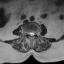CCS_normal: (30, 30, 32, 38)
LFS_stenosis: (34, 30, 36, 36)
LLS_normal: (32, 30, 34, 37)
RFS_normal: (26, 30, 28, 36)
RLS_normal: (28, 30, 30, 37)
